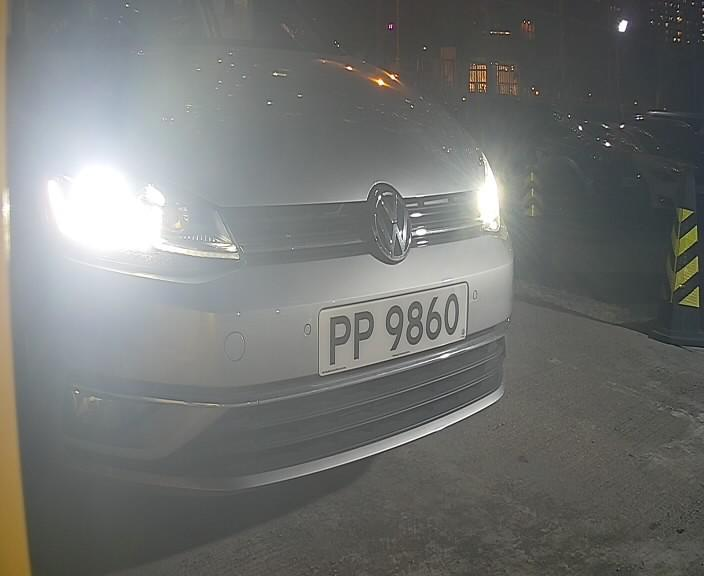License Plate: (305, 273, 478, 379)
